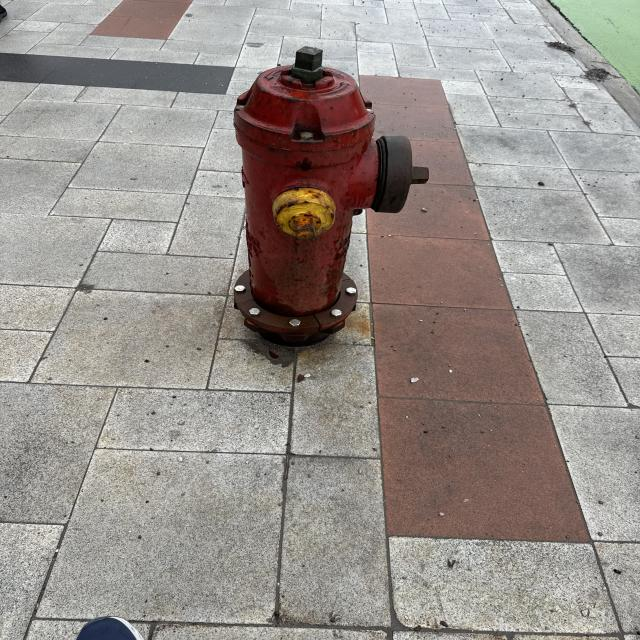Fire hydrant: (232, 46, 429, 341)
